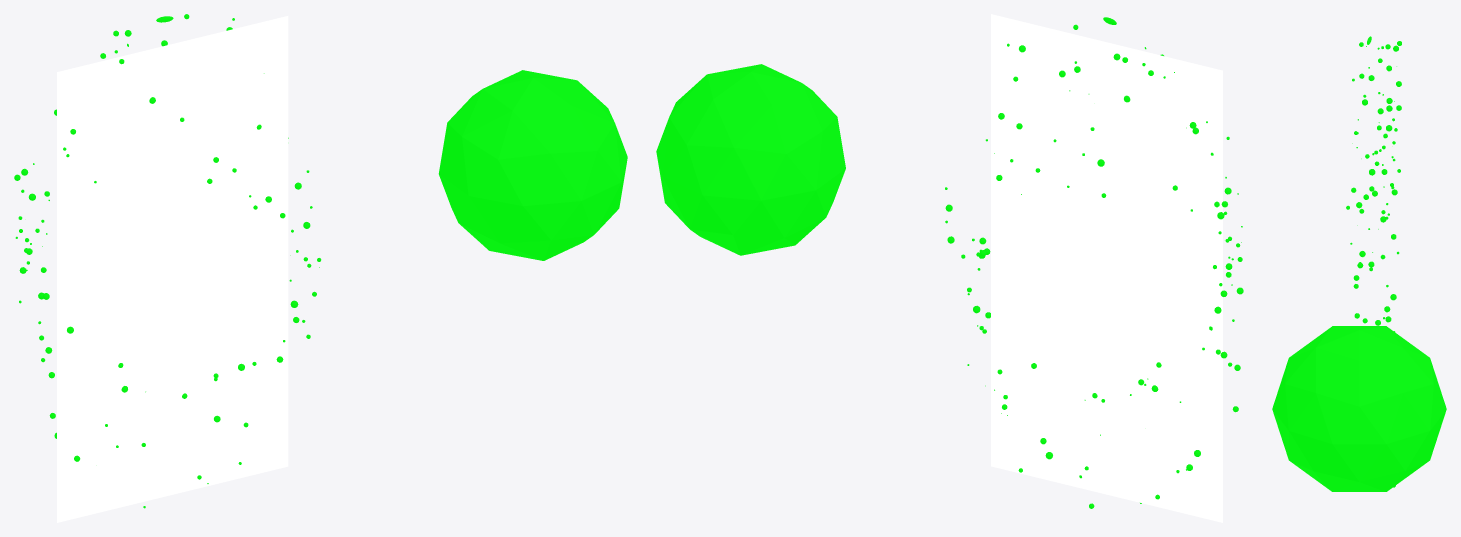
Rendered from Portal.glb.
3 renders of one model, left to right at view 1: azimuth 30°, elevation 25°; view 2: azimuth 150°, elevation 25°; view 3: azimuth 270°, elevation 25°, orthographic. The views are drawn at different scales.
Parts seen in each view (by area): view 1: Plane, Icosphere; view 2: Plane, Icosphere; view 3: Icosphere.
Part boxes in pixels (left/top/right/bottom): Plane: left=57, top=16, right=288, bottom=522; Icosphere: left=438, top=70, right=627, bottom=260; Plane: left=991, top=14, right=1222, bottom=522; Icosphere: left=656, top=64, right=845, bottom=255; Icosphere: left=1272, top=326, right=1446, bottom=491.
Size of the model in its own units: 19.54 by 15.5 by 5.64.
